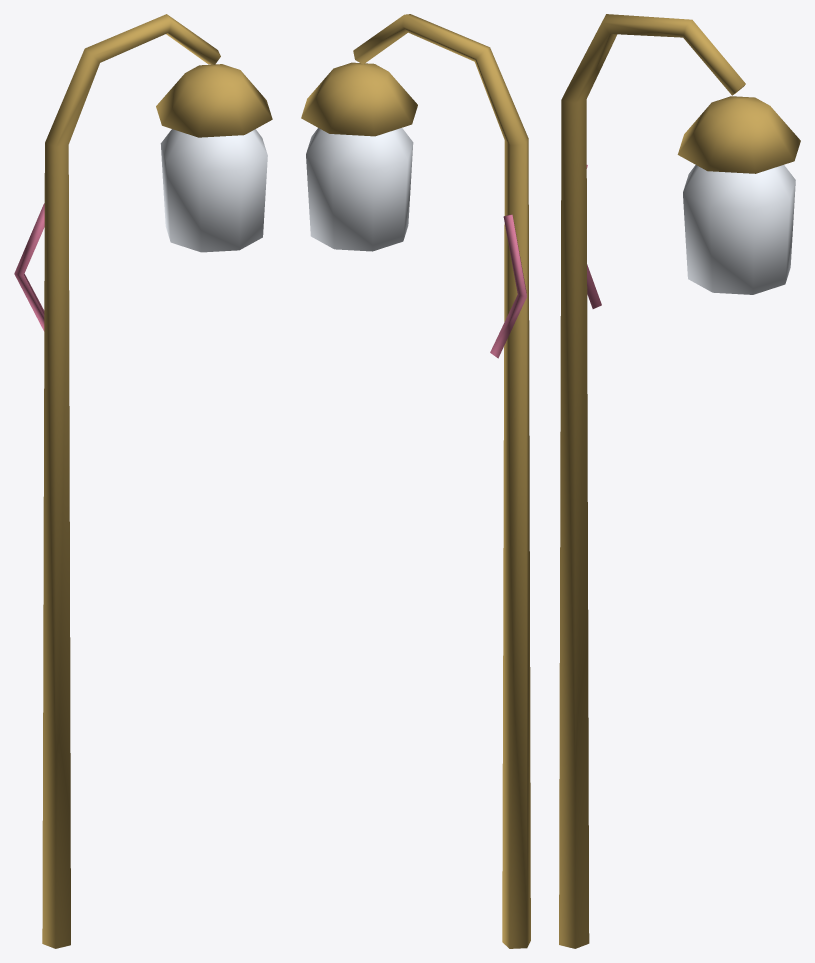
File: faelight_lantern.glb
3 renders of one model, left to right at view 1: azimuth 30°, elevation 25°; view 2: azimuth 150°, elevation 25°; view 3: azimuth 330°, elevation 25°, orthographic. The views are drawn at different scales.
Parts seen in each view (by area): view 1: faelight_lantern; view 2: faelight_lantern; view 3: faelight_lantern.
Boxes of the visible parts, <box> form: faelight_lantern: <box>14,14,272,948</box>; faelight_lantern: <box>301,14,530,948</box>; faelight_lantern: <box>559,14,800,948</box>.
Size of what is drawn, in the model's own units: 0.54 by 1.97 by 0.24.
